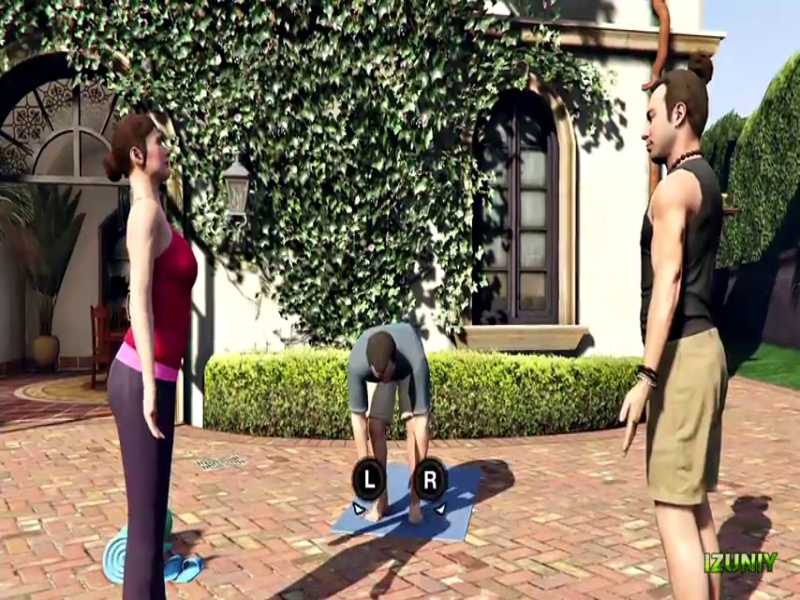human: (100, 114, 198, 600)
